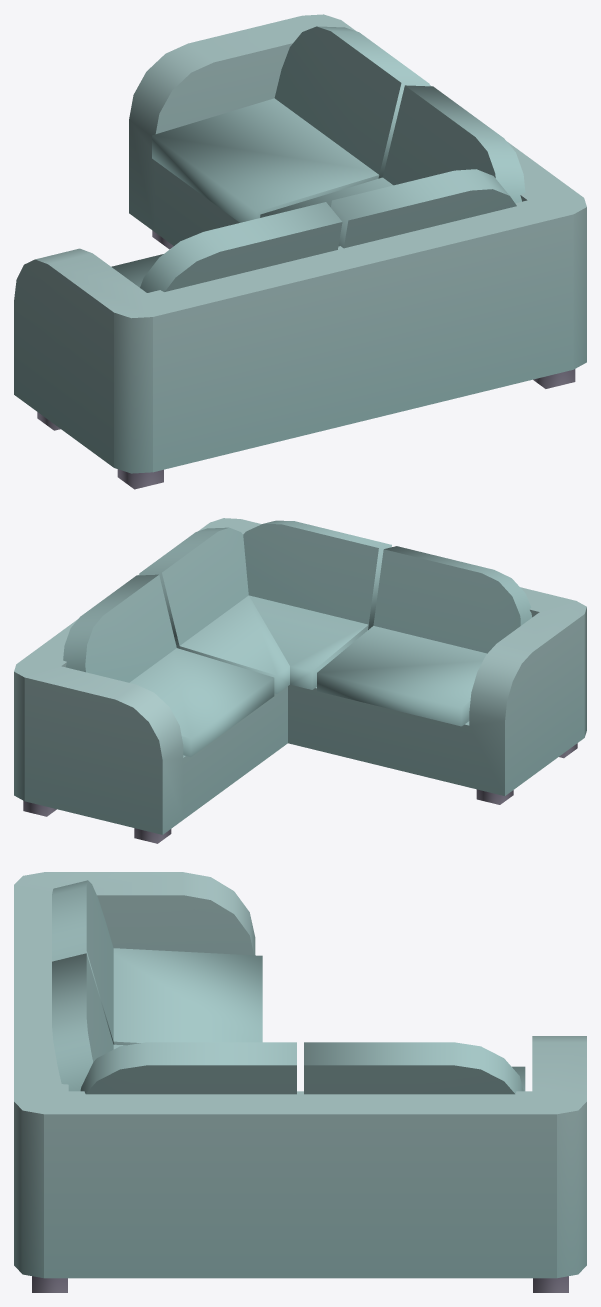
File: budapest-sofa-corner.glb
3 views of the same model, one above another, from view 1: azimuth 30°, elevation 25°; view 2: azimuth 150°, elevation 25°; view 3: azimuth 270°, elevation 25° (orthographic). The views are drawn at different scales.
Parts seen in each view (by area): view 1: budapest-sofa-corner; view 2: budapest-sofa-corner; view 3: budapest-sofa-corner.
Part boxes in pixels (box(x1,y1,x2,y2)): budapest-sofa-corner: box(14, 14, 586, 489); budapest-sofa-corner: box(14, 518, 586, 843); budapest-sofa-corner: box(14, 872, 586, 1292).
Size of the model in its own units: 1.6 by 0.6995 by 1.6.
